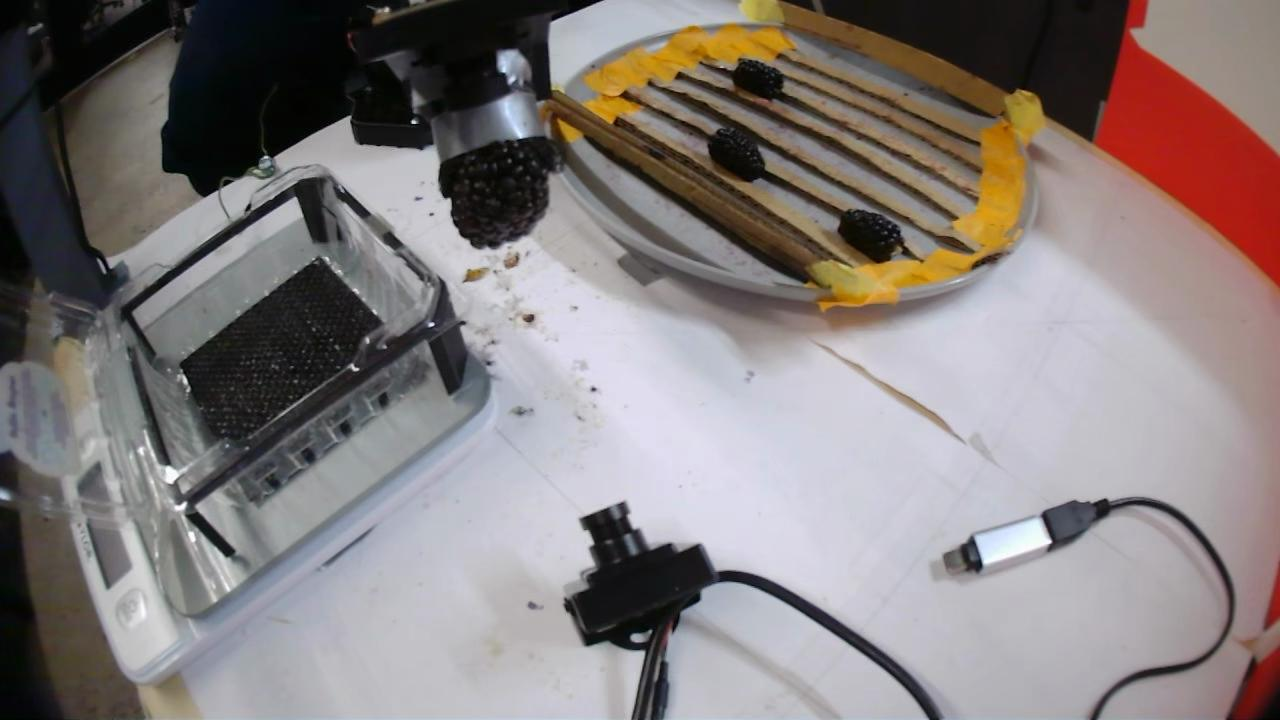berry: (450, 142, 548, 248), (837, 209, 904, 261), (708, 127, 765, 181), (731, 59, 784, 100)
